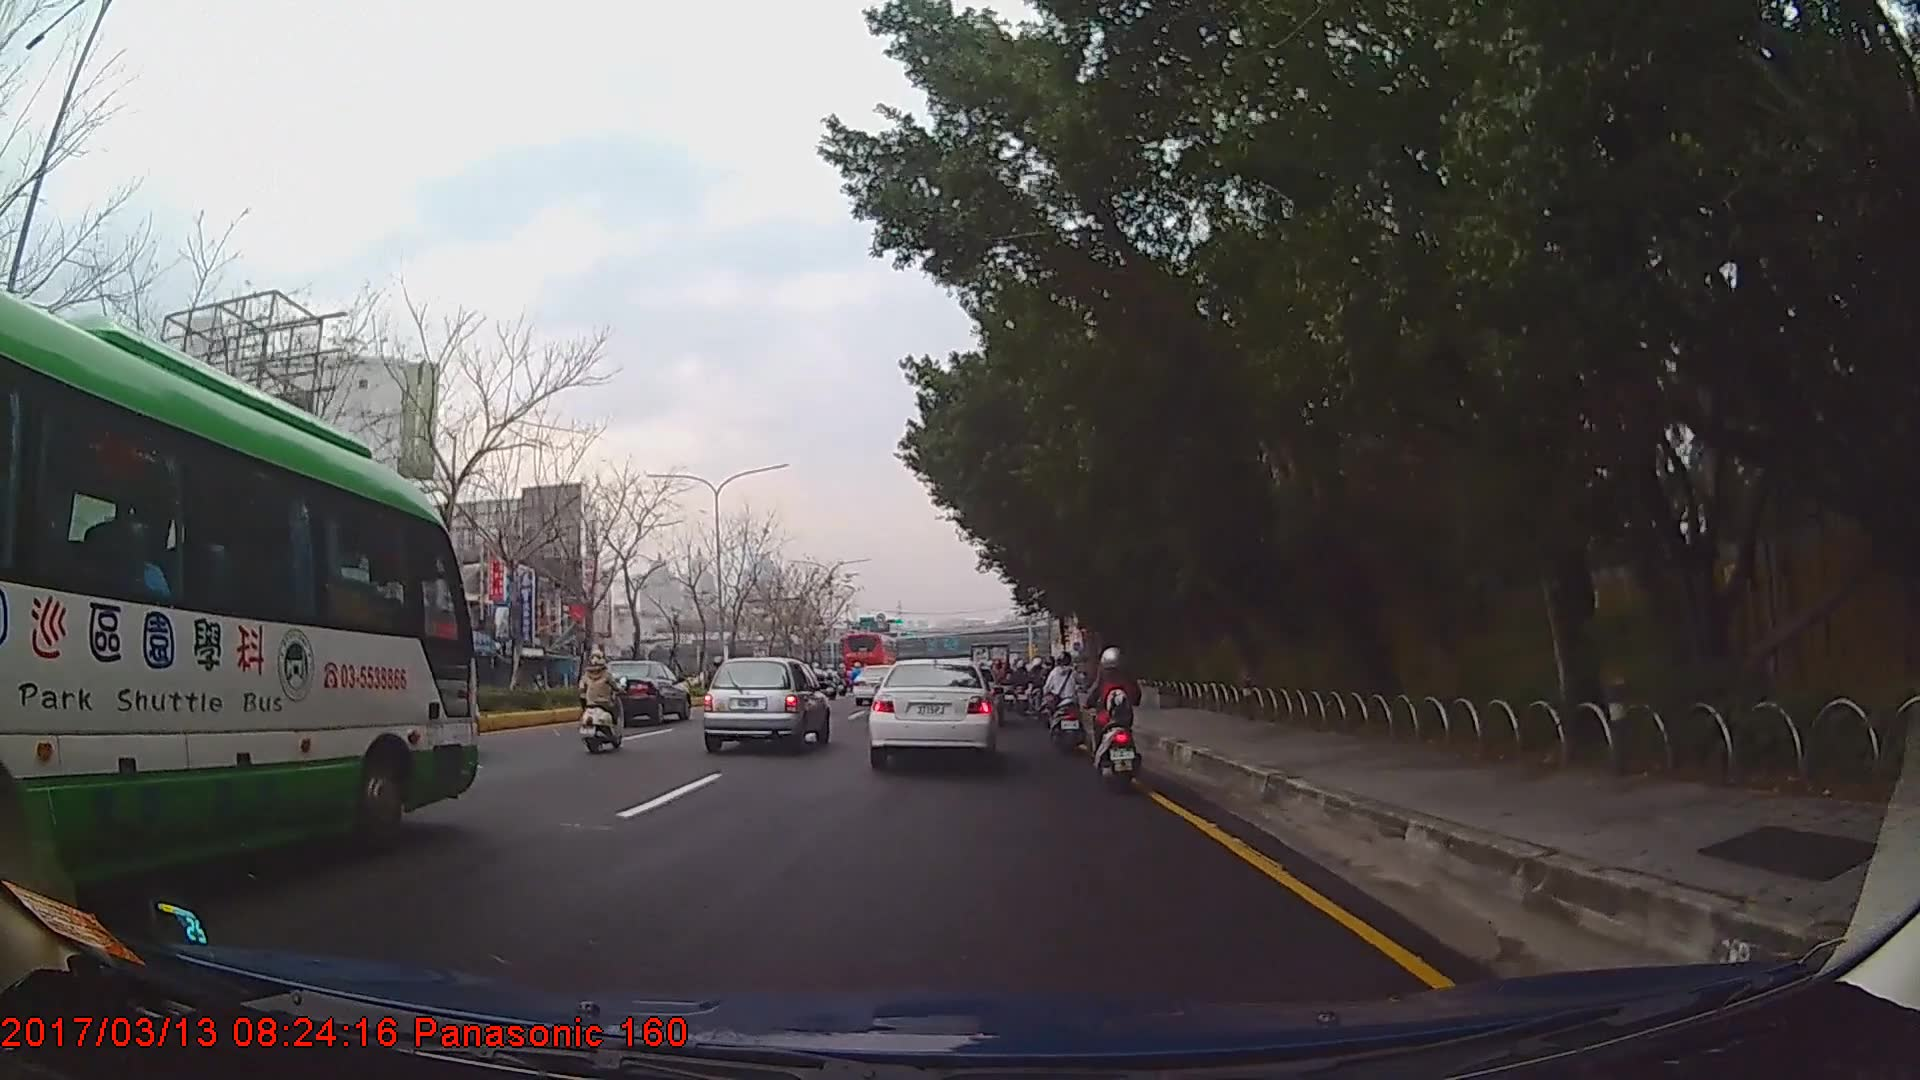rider: (1089, 648, 1148, 788), (582, 648, 627, 755), (1045, 649, 1089, 757), (1040, 657, 1061, 741)
vehicle: (0, 281, 481, 911), (866, 659, 999, 767), (698, 654, 831, 752), (583, 658, 689, 727), (841, 630, 900, 687)
